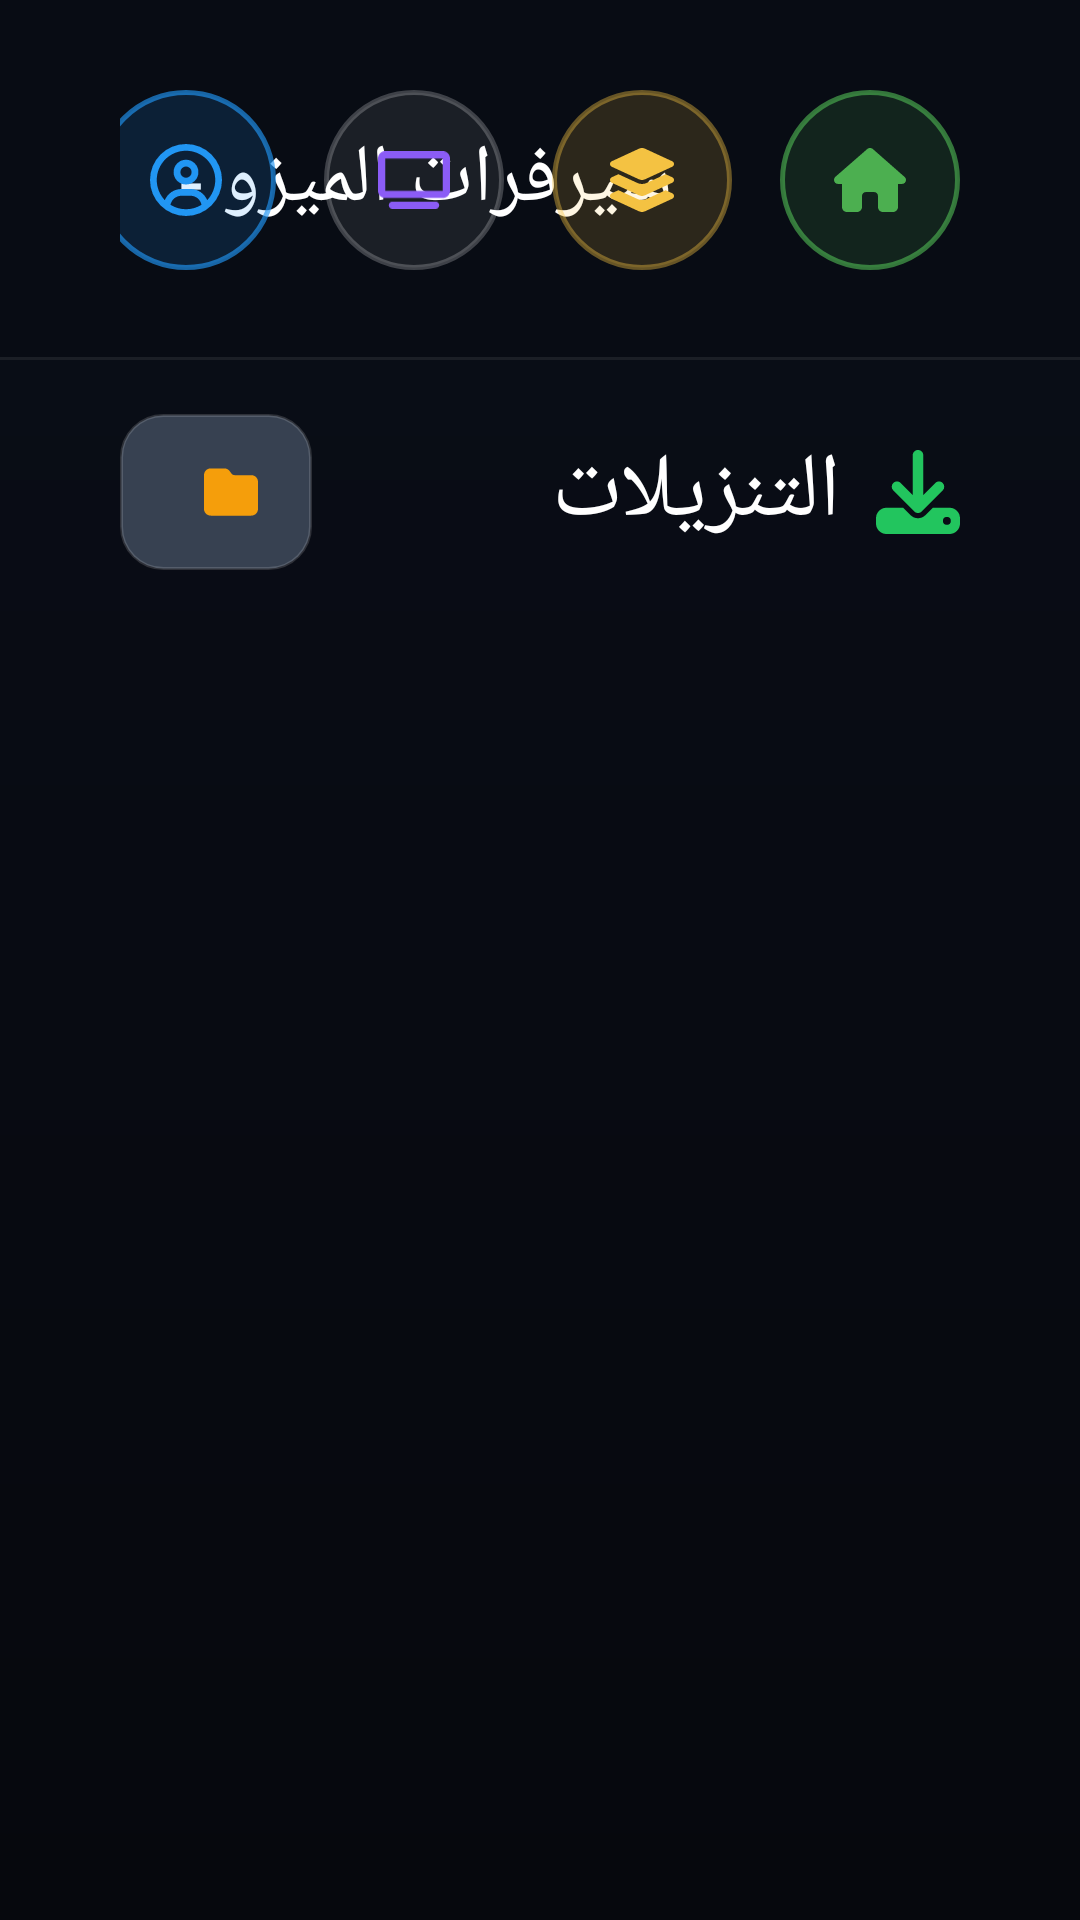

Where icons sit on this 1080px x 1920px app screen, as box(x1, y1, x2, y2):
download: box(876, 450, 960, 534)
folder: box(204, 468, 258, 516)
الرجوع للرئيسية: box(780, 90, 960, 270)
